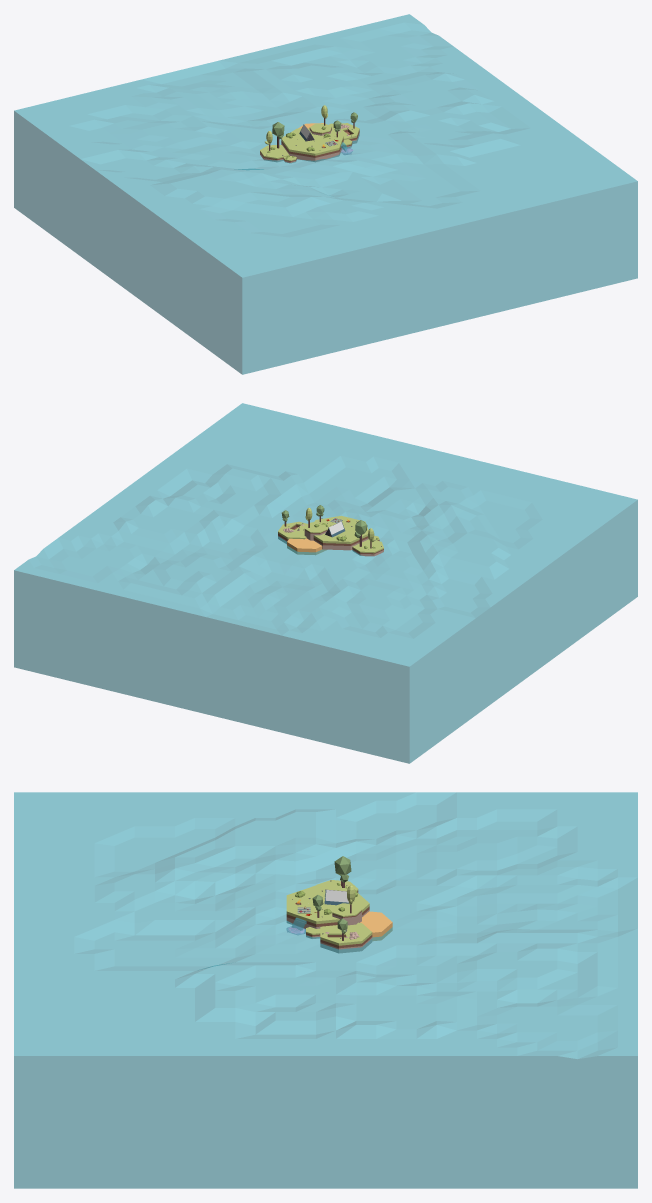
File: island.glb
3 renders of one model, top to bottom at view 1: azimuth 30°, elevation 25°; view 2: azimuth 150°, elevation 25°; view 3: azimuth 270°, elevation 25°, orthographic. The views are drawn at different scales.
Parts seen in each view (by area): view 1: Water_14, Land_13; view 2: Water_14, Land_13; view 3: Water_14, Land_13.
Part boxes in pixels (box(x1,y1,x2,y2)): Water_14: box(14, 14, 637, 374); Land_13: box(260, 123, 359, 162); Water_14: box(14, 403, 637, 763); Land_13: box(278, 515, 383, 556); Water_14: box(14, 792, 637, 1188); Land_13: box(286, 880, 392, 953).
Bounding box in the file's own units: 119 × 37.1 × 119.
